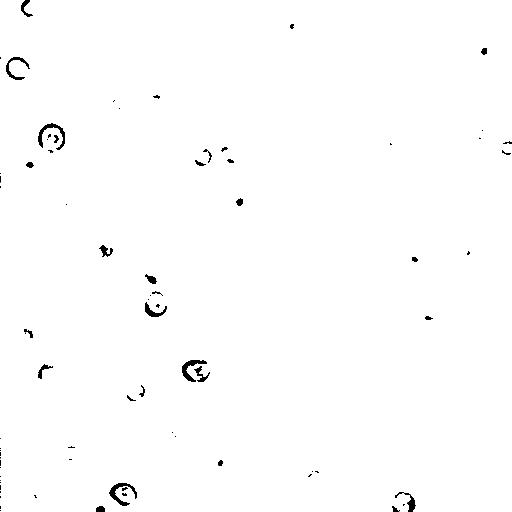micro-algae: (32, 136, 106, 207), (194, 312, 258, 374), (441, 456, 508, 512), (193, 347, 242, 397), (201, 135, 250, 182), (413, 308, 453, 345), (399, 108, 437, 145), (300, 466, 332, 498), (9, 151, 41, 182), (37, 122, 67, 155), (134, 263, 167, 293), (39, 379, 73, 408), (102, 91, 133, 122), (279, 10, 309, 40), (450, 235, 481, 264), (420, 291, 453, 318), (26, 477, 55, 506), (83, 490, 121, 512), (400, 243, 429, 271), (60, 196, 87, 224), (331, 365, 361, 390), (144, 289, 169, 318), (181, 359, 211, 383), (109, 483, 138, 507), (5, 56, 31, 82), (16, 323, 41, 350), (380, 129, 404, 152), (261, 101, 284, 125), (390, 491, 416, 512), (35, 362, 59, 384), (140, 442, 164, 464), (473, 40, 494, 65), (19, 0, 46, 19), (124, 381, 146, 403), (59, 444, 84, 463), (193, 145, 213, 167), (217, 145, 239, 165), (211, 451, 229, 474), (97, 237, 114, 259), (170, 421, 187, 440), (230, 196, 251, 209), (471, 127, 489, 142), (445, 77, 460, 93), (43, 391, 59, 405), (500, 140, 512, 156), (271, 508, 289, 512)
